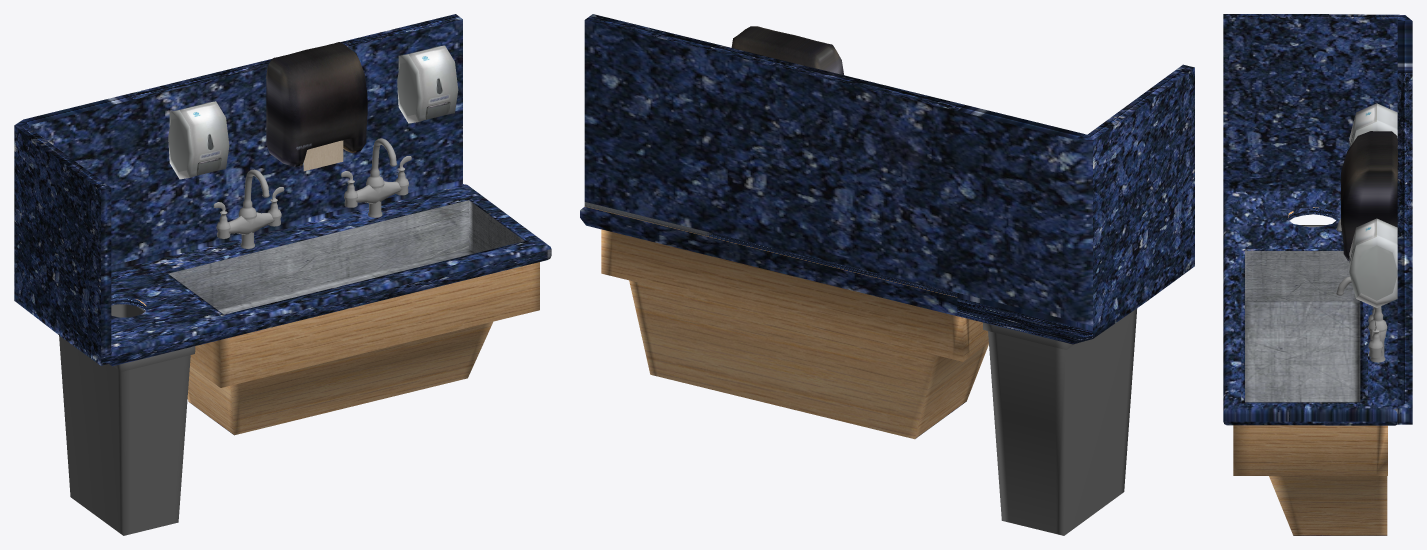
Rendered from sink_by_entrance.fbx.
The picture shows the model from 3 angles, left to right: view 1: azimuth 30°, elevation 25°; view 2: azimuth 150°, elevation 25°; view 3: azimuth 270°, elevation 25°; orthographic projection. The views are drawn at different scales.
Parts seen in each view (by area): view 1: basin, trashcan, paper_towel_dispenser, foam_soap_dispenser2, foam_soap_dispenser3, faucet (×2), paper_towel, pipe1, pipe; view 2: basin, trashcan, paper_towel_dispenser; view 3: basin, paper_towel_dispenser, foam_soap_dispenser3, foam_soap_dispenser2, faucet, right_handle.
Boxes of the visible parts, x1,y1,x2,y2 form: basin: (14, 14, 551, 435); trashcan: (59, 304, 195, 535); paper_towel_dispenser: (266, 42, 367, 166); foam_soap_dispenser2: (168, 101, 229, 179); foam_soap_dispenser3: (397, 45, 458, 123); faucet (×2): (238, 138, 397, 248); paper_towel: (303, 140, 343, 171); pipe1: (356, 181, 402, 203); pipe: (228, 212, 274, 234); basin: (580, 14, 1194, 439); trashcan: (983, 308, 1137, 535); paper_towel_dispenser: (731, 26, 843, 74); basin: (1223, 14, 1412, 535); paper_towel_dispenser: (1341, 131, 1397, 261); foam_soap_dispenser3: (1349, 218, 1397, 307); foam_soap_dispenser2: (1349, 103, 1397, 147); faucet: (1336, 276, 1387, 362); right_handle: (1368, 321, 1383, 357).
Size of the model in its own units: 5.67 by 4.59 by 2.
5 materials, 3 textured.
